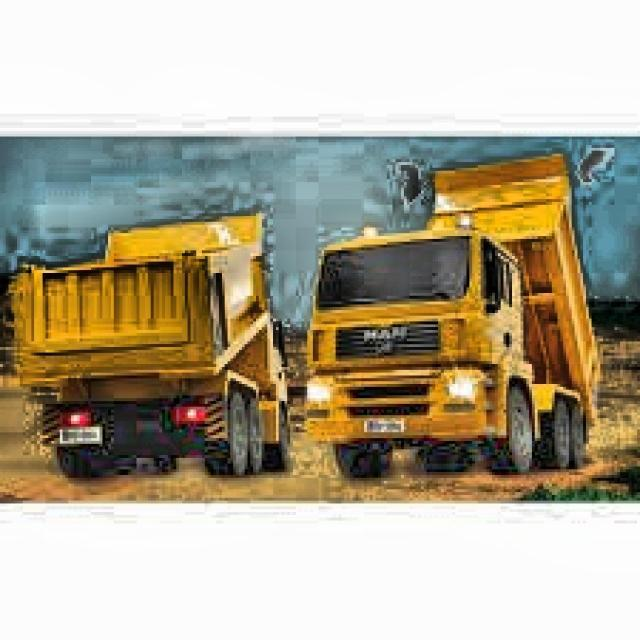dump_truck: (314, 138, 606, 484), (2, 194, 298, 486)
